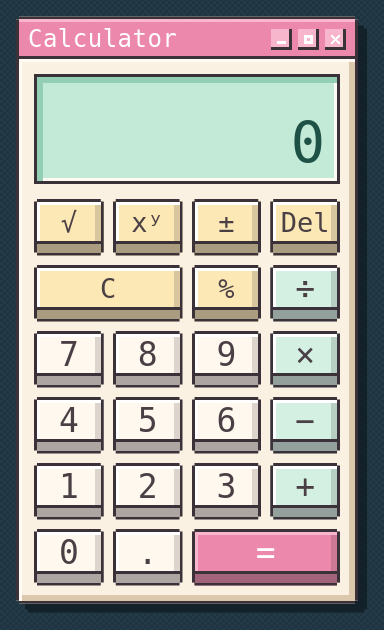
Calculator › shows a readable message when the server is unreachable
This screenshot has width=384, height=630.
Click the button "2" at {"x": 148, "y": 491}, box 113,463 -> 183,520
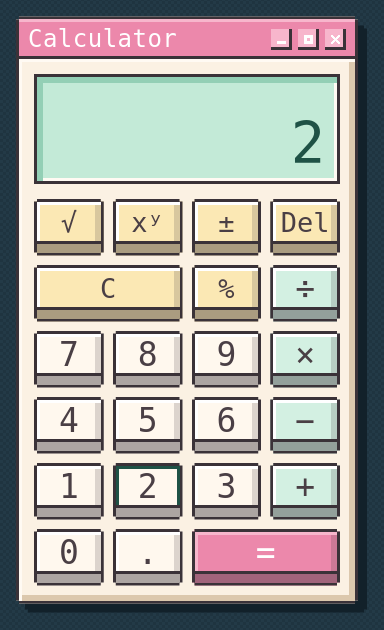
Click the button named "add" at {"x": 305, "y": 491}, box 270,463 -> 340,520
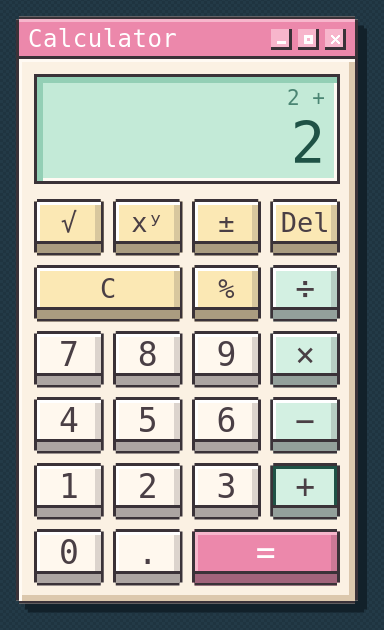
Click the button "2" at {"x": 148, "y": 491}, box 113,463 -> 183,520
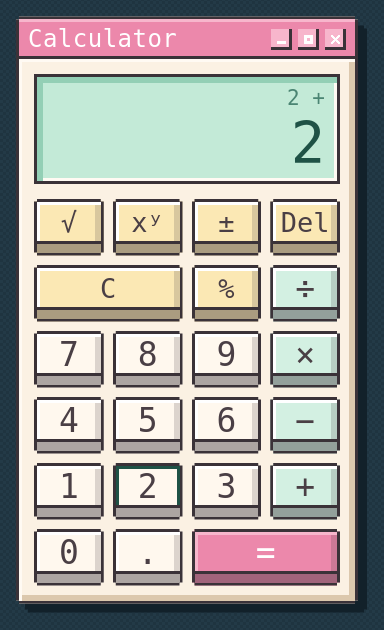
Click the button named "equals" at {"x": 266, "y": 557}, box 192,529 -> 340,586
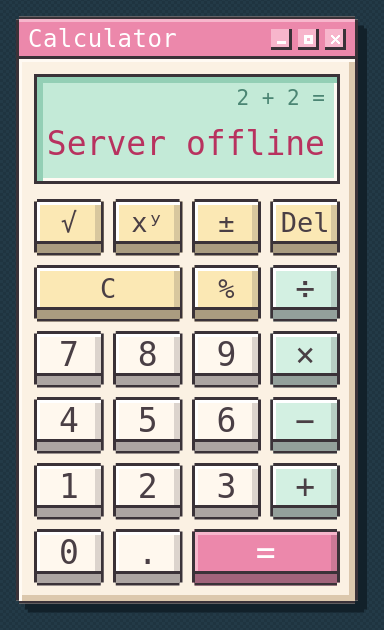
Check: the text "Server offline" is shown, box 49,115 -> 325,172
